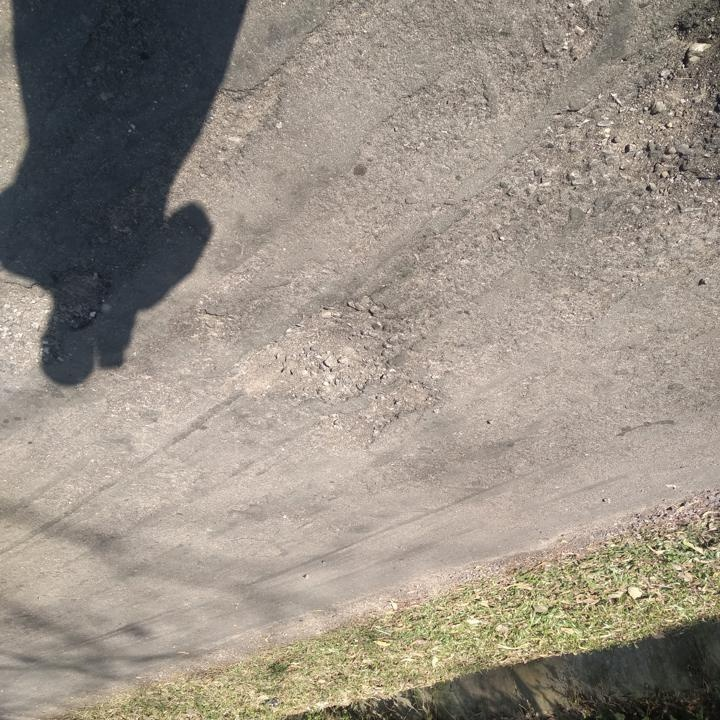pothole: (229, 294, 400, 405), (596, 46, 719, 171), (320, 381, 441, 452)
